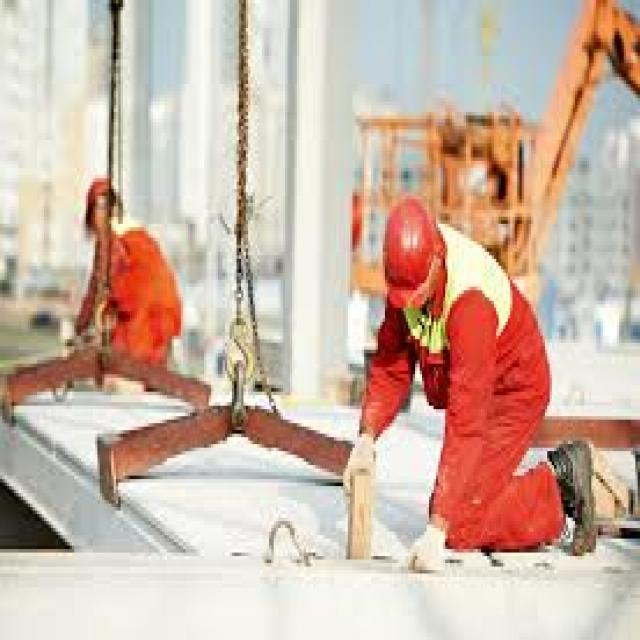Reflective-Jacket: (417, 227, 559, 472), (86, 224, 190, 378)
Safety-Helmet: (369, 185, 450, 318), (70, 161, 128, 231)
